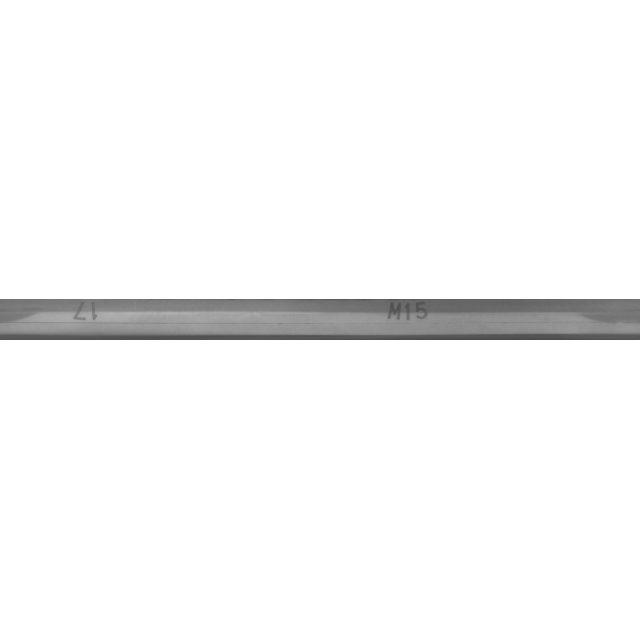mohao: (310, 270, 510, 370)
xuehao: (0, 270, 187, 370)
